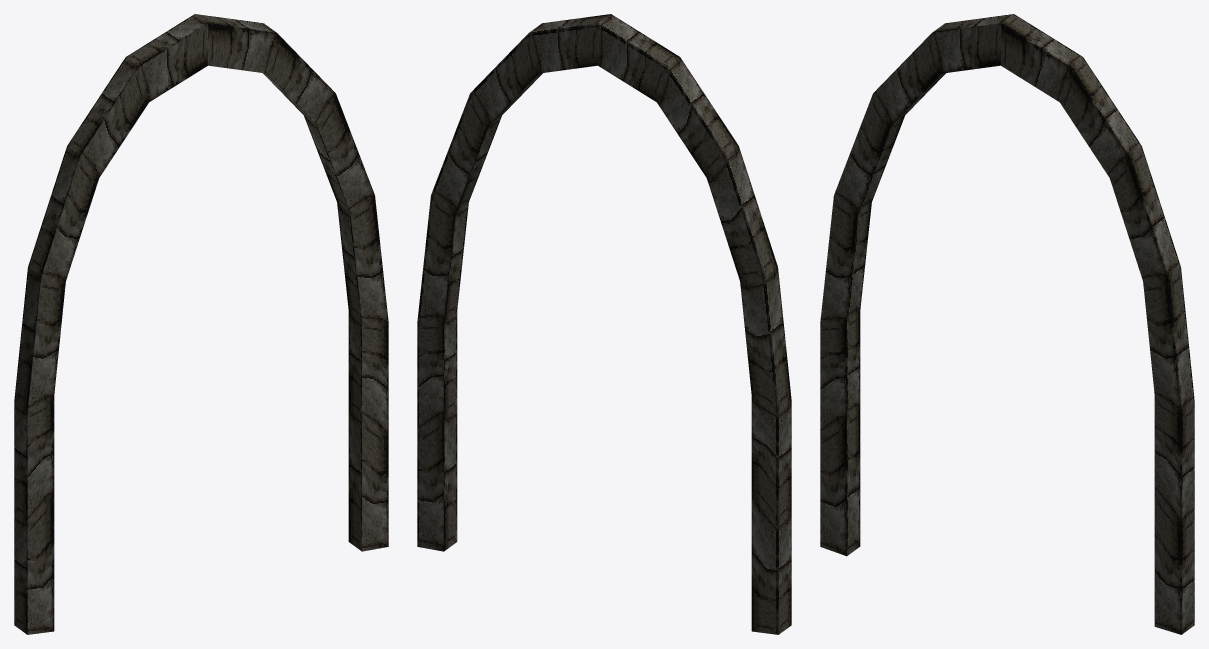
The model's file is dungeon_extra_arch_model.gltf.
3 views of the same model, side by side, from view 1: azimuth 30°, elevation 25°; view 2: azimuth 150°, elevation 25°; view 3: azimuth 330°, elevation 25° (orthographic).
Parts seen in each view (by area): view 1: Cube.005; view 2: Cube.005; view 3: Cube.005.
Boxes of the visible parts, x1=… form: Cube.005: x1=14, y1=14, x2=388, y2=634; Cube.005: x1=417, y1=14, x2=791, y2=634; Cube.005: x1=820, y1=14, x2=1194, y2=634.
Size of the model in its own units: 2 by 3.02 by 0.1273.
Materials: 2 (2 with a texture image).
